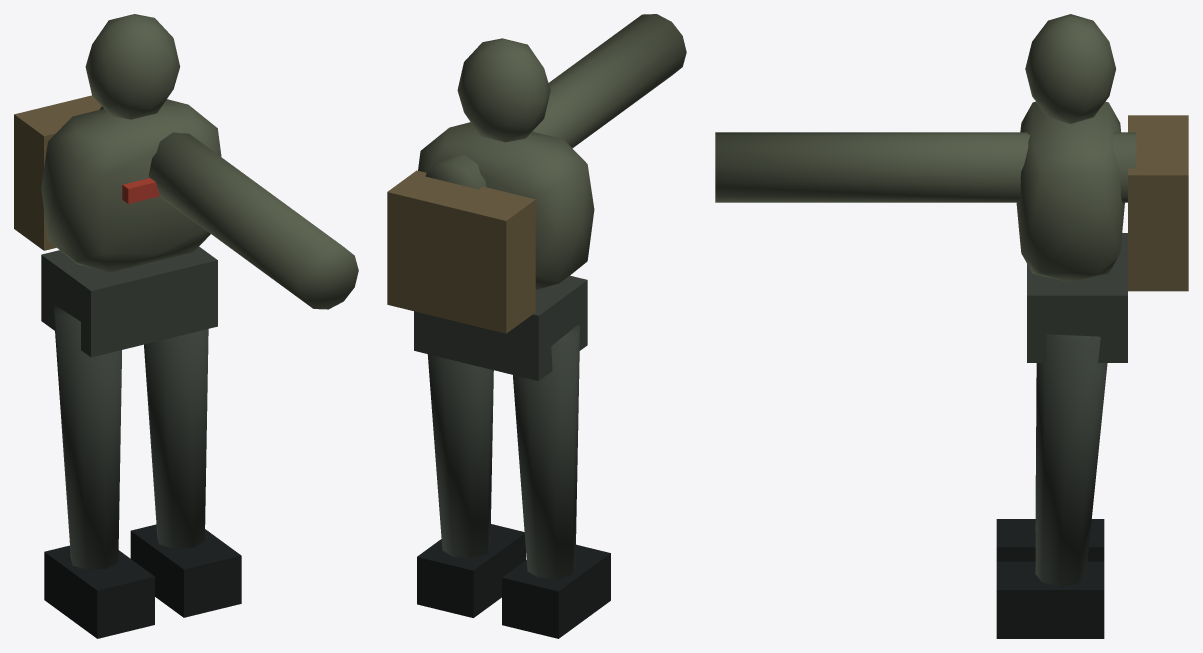
File: Bastion_RocketSoldier_LOD2.obj
3 views of the same model, side by side, from view 1: azimuth 30°, elevation 25°; view 2: azimuth 150°, elevation 25°; view 3: azimuth 270°, elevation 25° (orthographic). The views are drawn at different scales.
Visible parts, largest first — view 1: LOD2Torso, LOD2Launcher, LOD2Pelvis, LOD2LeftLeg, LOD2RightLeg, LOD2Head, LOD2LeftBoot, LOD2RightBoot, LOD2Pack, LOD2Accent; view 2: LOD2Pack, LOD2LeftLeg, LOD2Torso, LOD2Launcher, LOD2RightLeg, LOD2Pelvis, LOD2Head, LOD2LeftBoot, LOD2RightBoot; view 3: LOD2Launcher, LOD2Torso, LOD2RightLeg, LOD2Pack, LOD2Pelvis, LOD2Head, LOD2RightBoot, LOD2LeftBoot.
Boxes of the visible parts, box(x1,y1,x2,y2) form: LOD2Torso: box(41, 99, 221, 272); LOD2Launcher: box(99, 106, 358, 309); LOD2Pelvis: box(41, 246, 217, 357); LOD2LeftLeg: box(53, 304, 121, 569); LOD2RightLeg: box(144, 329, 208, 548); LOD2Head: box(85, 14, 180, 119); LOD2LeftBoot: box(44, 545, 154, 638); LOD2RightBoot: box(130, 524, 241, 617); LOD2Pack: box(14, 95, 101, 250); LOD2Accent: box(122, 178, 159, 203); LOD2Pack: box(387, 170, 535, 333); LOD2LeftLeg: box(513, 325, 580, 578); LOD2Torso: box(418, 122, 594, 290); LOD2Launcher: box(425, 14, 686, 189); LOD2RightLeg: box(427, 354, 493, 558); LOD2Pelvis: box(414, 275, 587, 380); LOD2Head: box(457, 38, 550, 142); LOD2LeftBoot: box(502, 544, 610, 638); LOD2RightBoot: box(417, 524, 525, 617); LOD2Launcher: box(715, 132, 1136, 202); LOD2Torso: box(1016, 101, 1124, 282); LOD2RightLeg: box(1035, 334, 1107, 586); LOD2Pack: box(1128, 115, 1188, 291); LOD2Pelvis: box(1027, 233, 1127, 362); LOD2Head: box(1025, 14, 1115, 123); LOD2RightBoot: box(996, 561, 1104, 638); LOD2LeftBoot: box(996, 519, 1104, 561).
Size of the model in its own units: 0.55 by 1.92 by 1.41.
Materials: 1 (1 with a texture image).
